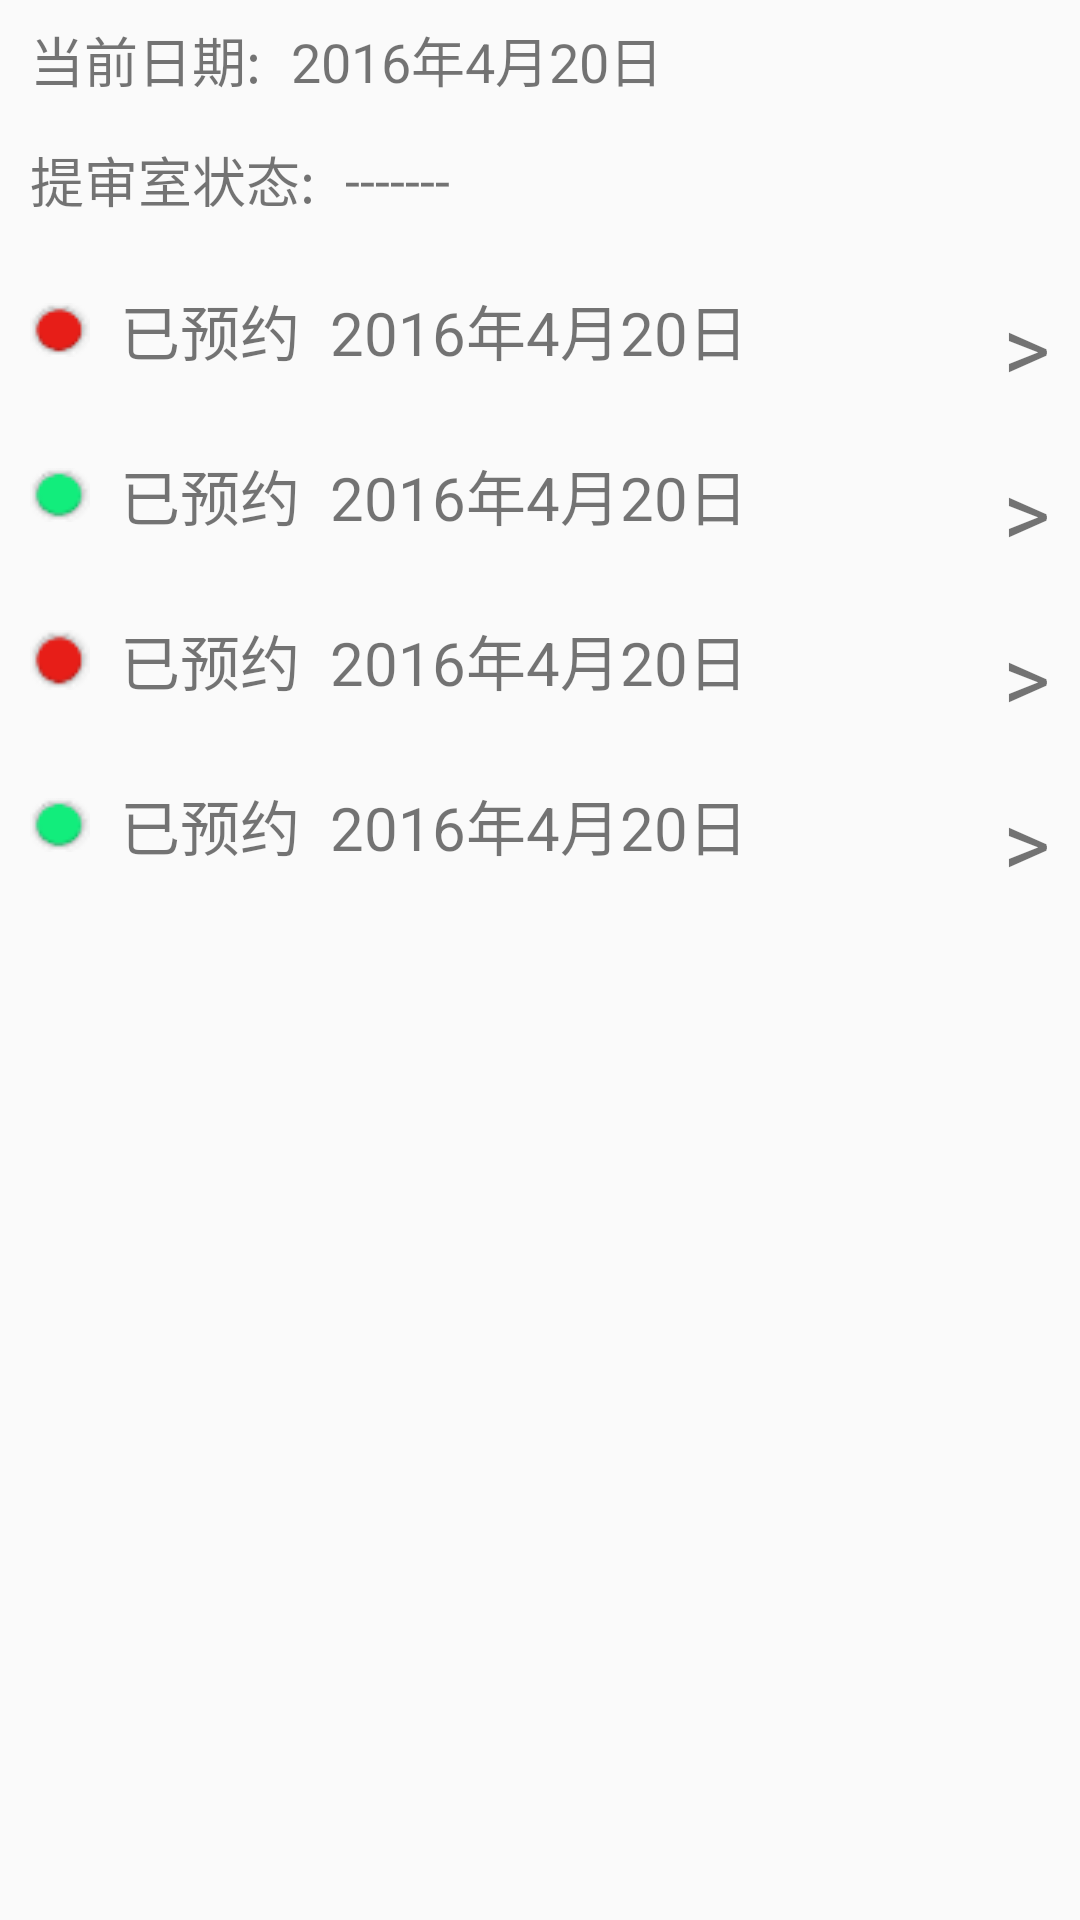

Icons on this 1080x1920 Android screen, each with its box as (x1, y1, x2, y2):
status: (34, 306, 86, 353), (34, 471, 86, 518), (34, 633, 86, 686), (34, 801, 86, 848)
